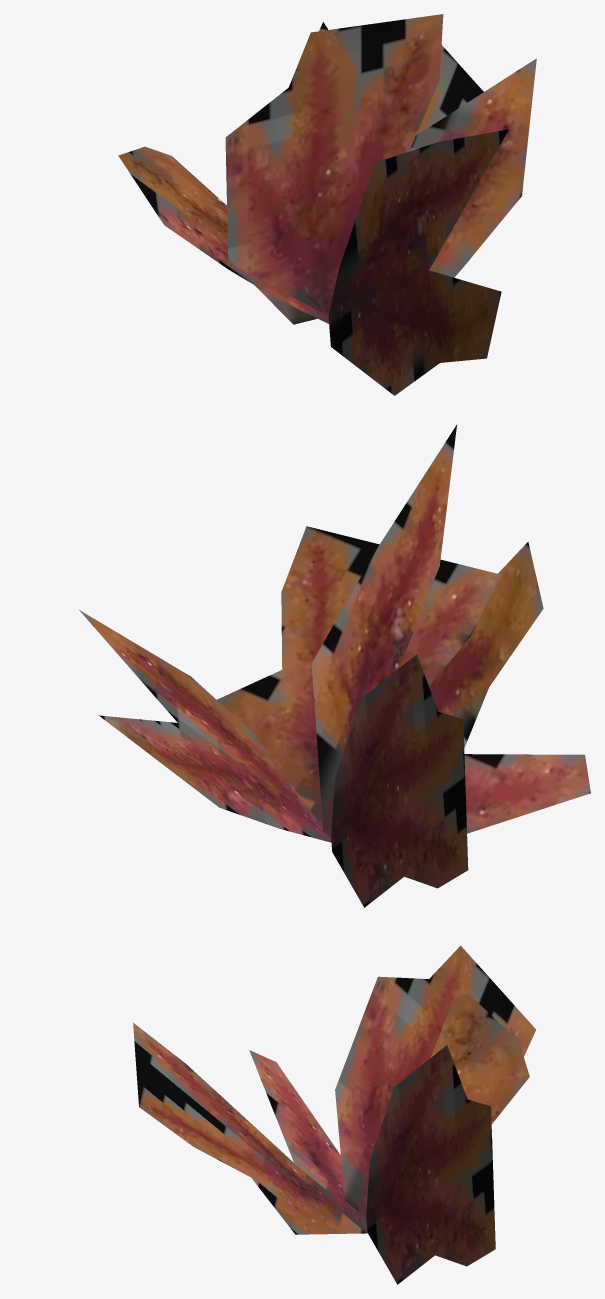
File: Seaweed_E1-transformed.glb
The picture shows the model from 3 angles, top to bottom: view 1: azimuth 30°, elevation 25°; view 2: azimuth 150°, elevation 25°; view 3: azimuth 270°, elevation 25°; orthographic projection. The views are drawn at different scales.
Visible parts, largest first — view 1: Seaweed_E1; view 2: Seaweed_E1; view 3: Seaweed_E1.
Boxes of the visible parts, <box> form: Seaweed_E1: <box>118,14,536,395</box>; Seaweed_E1: <box>79,425,590,907</box>; Seaweed_E1: <box>133,945,536,1284</box>.
Size of the model in its own units: 0.8153 by 0.5241 by 0.9055.
Materials: 1 (1 with a texture image).
